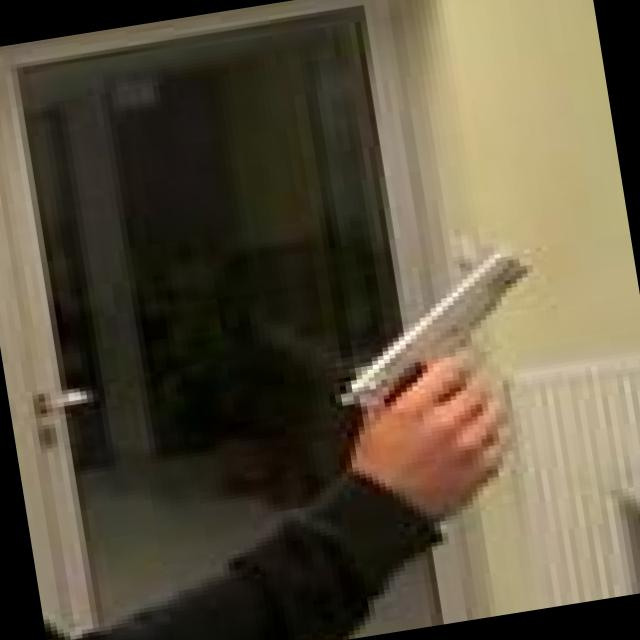Guns: (290, 223, 616, 500)
